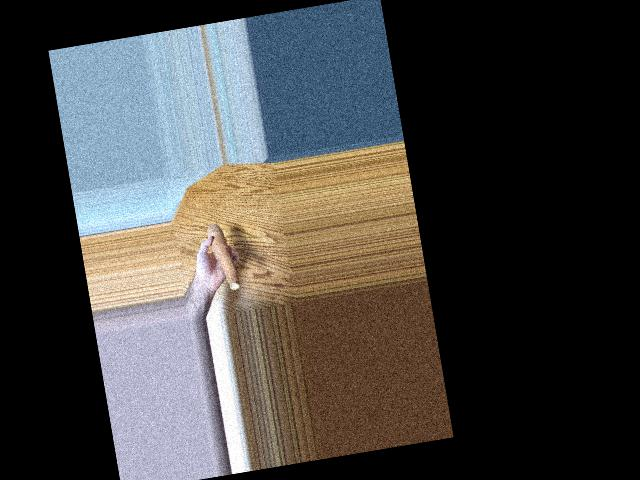sweet_potato: (209, 217, 239, 294)
